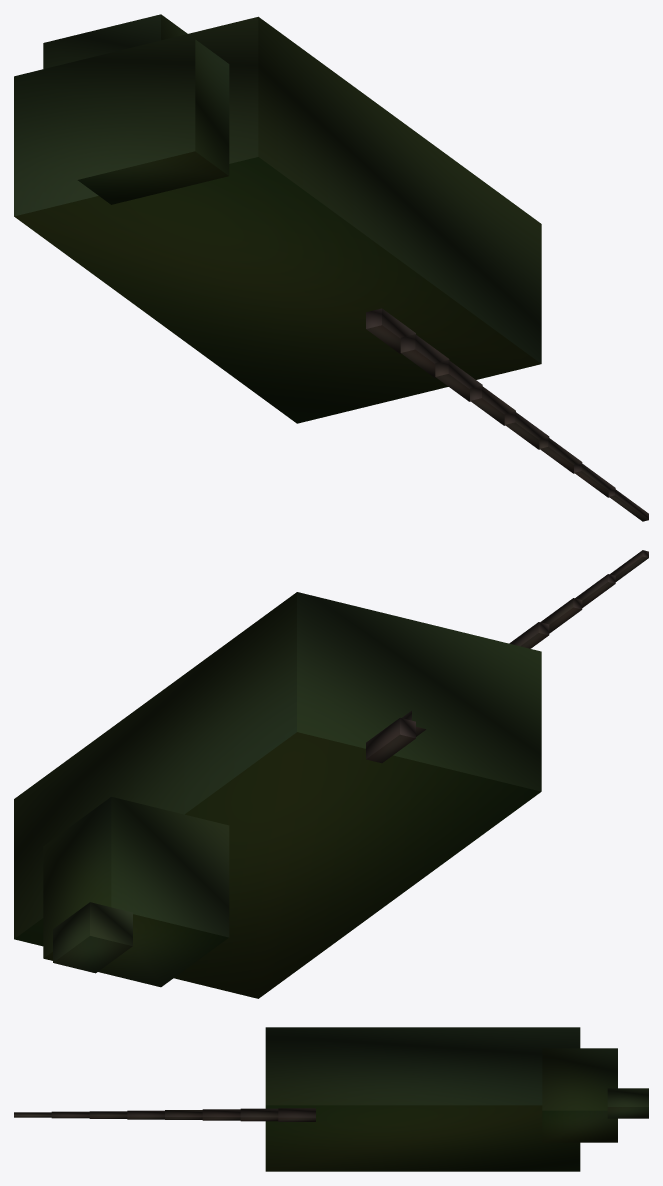
Rendered from rat_v1.glb.
The picture shows the model from 3 angles, top to bottom: view 1: azimuth 30°, elevation 25°; view 2: azimuth 150°, elevation 25°; view 3: azimuth 270°, elevation 25°; orthographic projection. The views are drawn at different scales.
Size of the model in its own units: 0.247 by 0.1353 by 1.
